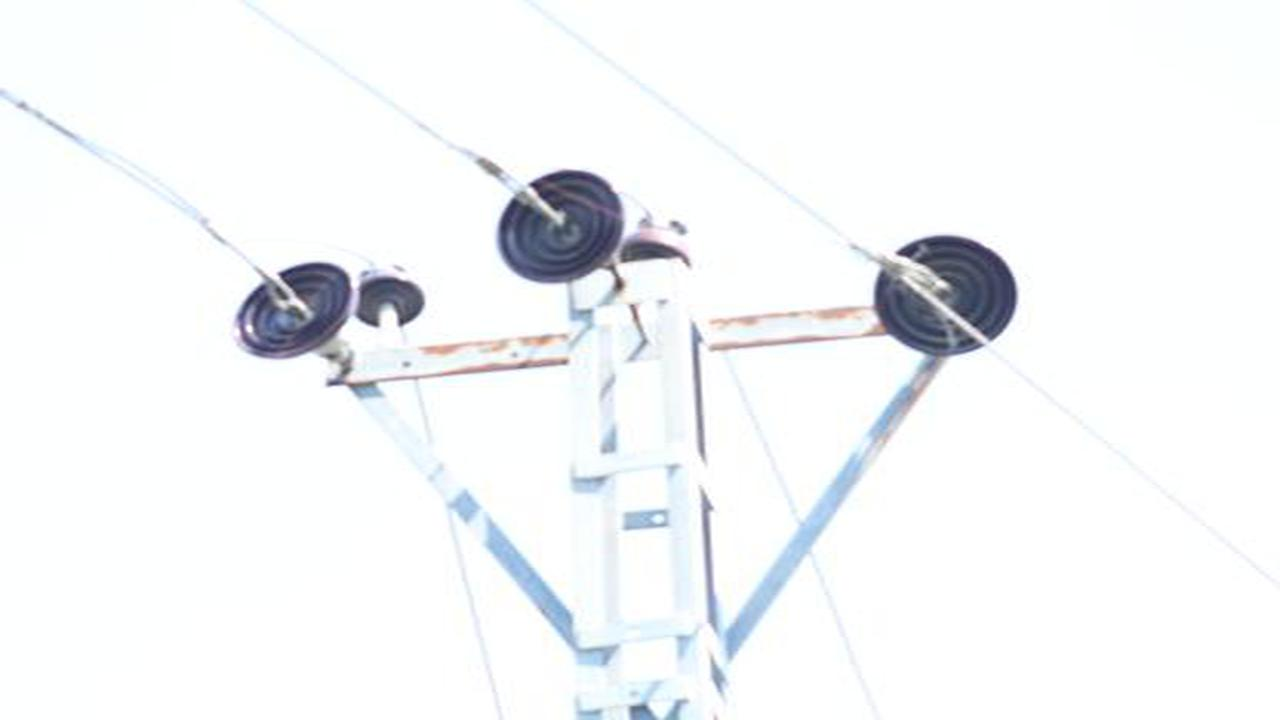insulator_disc: (872, 233, 1020, 358), (492, 167, 628, 286), (231, 259, 353, 362)
insulator_pin: (354, 262, 427, 329), (627, 206, 693, 271)
